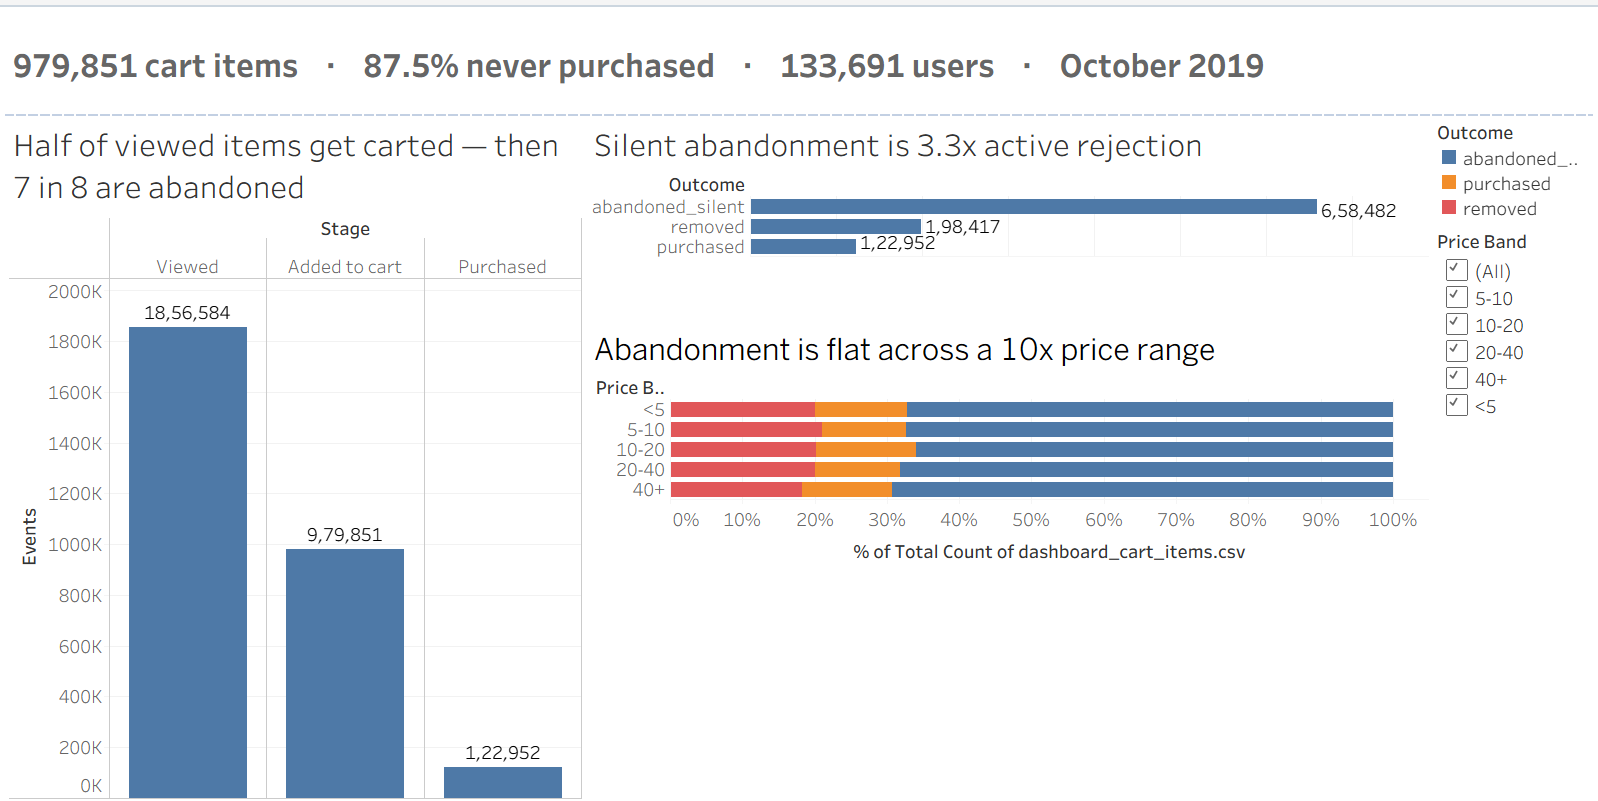

This screenshot's page, from the dashboard's own definition file:
{"tool":"tableau","page":{"name":"Cart Abandonment","canvas":[1000,1000],"units":"permille","ordinal":0},"visuals":[{"type":"worksheet","title":"Funnel","mark":"Automatic","rows":["Events"],"cols":["Stage","StageOrder"],"box":[5,9.9,362.2,980.1]},{"type":"worksheet","title":"Price Bands","mark":"Automatic","rows":["price_band"],"box":[367.2,9.9,264.1,980.1]},{"type":"worksheet","title":"Outcome Split","mark":"Automatic","rows":["outcome"],"cols":["dashboard_cart_items.csv_0D5B86FD6347490BB87449CDF88FA03E"],"box":[631.2,9.9,264.1,980.1]},{"type":"legend","title":"Price Bands","param":"[federated.1tb9pob0riklng1bsa8me13y3snn].[none:outcome:nk]","box":[895.3,9.9,99.8,135.2]},{"type":"filter","title":"Price Bands","param":"[federated.1tb9pob0riklng1bsa8me13y3snn].[none:price_band:nk]","box":[895.3,145.2,99.8,250.6]}]}

Visuals, with their boxes on the dashboard's canvas, which has no fixed pixel size, in thousandths of its width and height (x1, y1, x2, y2). These are canvas units, not pixel positions in the 1598x801 screenshot, which may show the page scaled, cropped or inside an application window:
"Funnel" worksheet: bbox(5, 10, 367, 990)
"Price Bands" worksheet: bbox(367, 10, 631, 990)
"Outcome Split" worksheet: bbox(631, 10, 895, 990)
"Price Bands" legend: bbox(895, 10, 995, 145)
"Price Bands" filter: bbox(895, 145, 995, 396)
